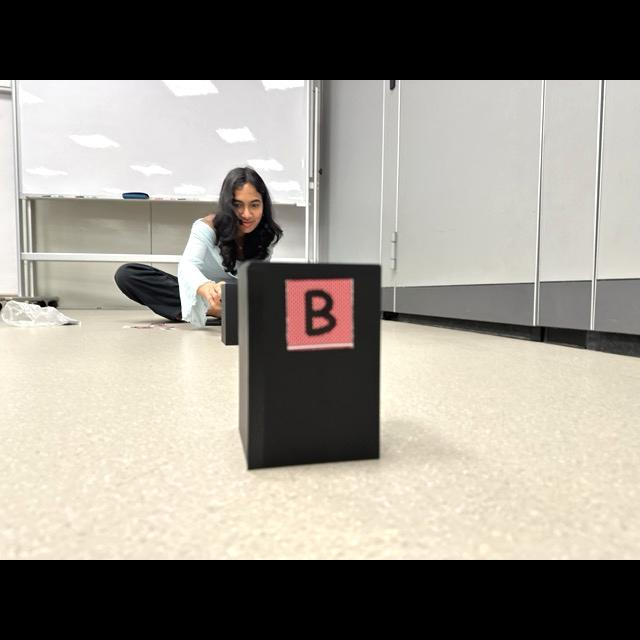B: (306, 290, 336, 335)
